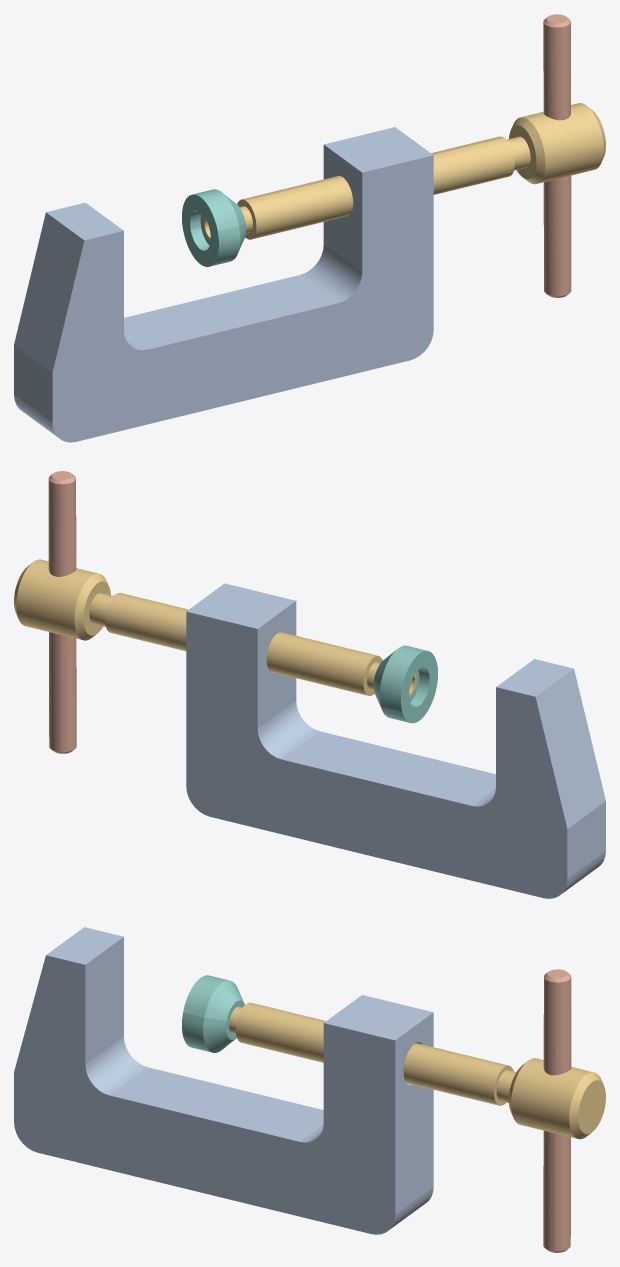
3 renders of one model, top to bottom at view 1: azimuth 30°, elevation 25°; view 2: azimuth 150°, elevation 25°; view 3: azimuth 330°, elevation 25°, orthographic.
Visible parts, largest first — view 1: C1001, C1002, C1004, C1003; view 2: C1001, C1002, C1004, C1003; view 3: C1001, C1002, C1004, C1003.
Boxes of the visible parts, box(x1,y1,x2,y2) form: C1001: box(14, 127, 433, 442); C1002: box(203, 103, 605, 240); C1004: box(543, 14, 571, 297); C1003: box(182, 189, 246, 266); C1001: box(186, 583, 605, 898); C1002: box(14, 559, 416, 697); C1004: box(48, 471, 76, 753); C1003: box(373, 645, 437, 723); C1001: box(14, 927, 433, 1234); C1002: box(229, 1002, 605, 1139); C1004: box(543, 969, 571, 1252); C1003: box(182, 975, 244, 1052).
Bounding box in the file's own units: 149 × 73.03 × 17.77.
